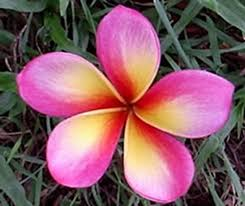frangipani: (22, 4, 233, 203)
